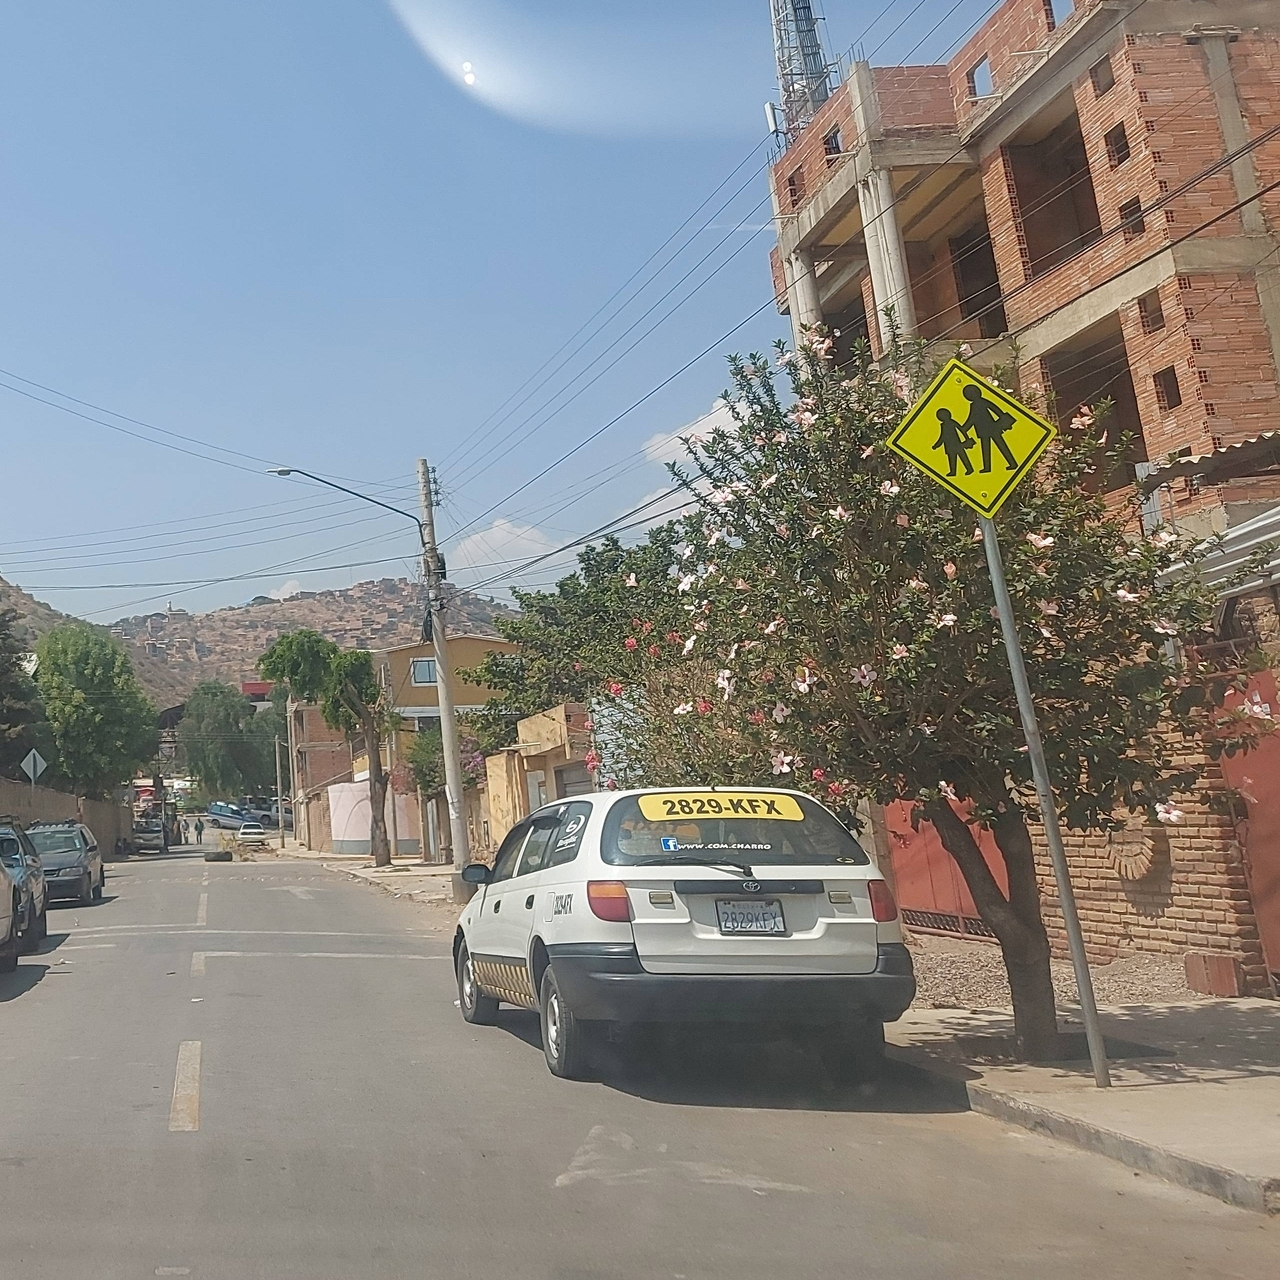zona-escolar: (886, 365, 1062, 530)
